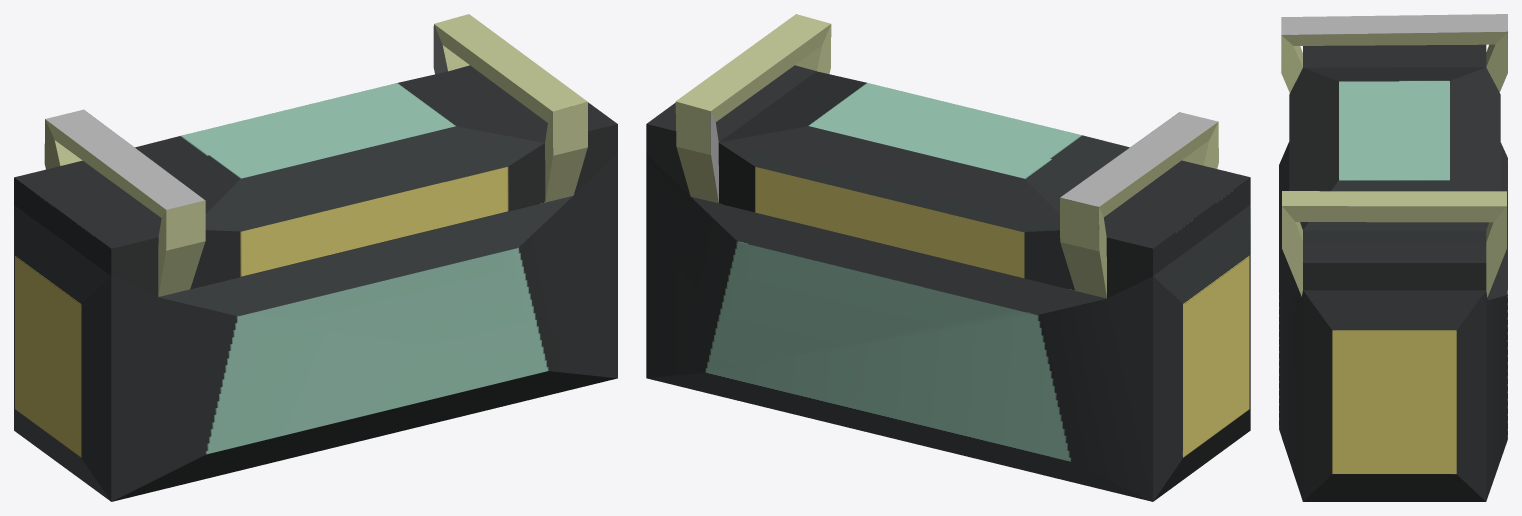
Rendered from ContainerTexturesdef.fbx.
3 renders of one model, left to right at view 1: azimuth 30°, elevation 25°; view 2: azimuth 150°, elevation 25°; view 3: azimuth 270°, elevation 25°, orthographic. The views are drawn at different scales.
Parts seen in each view (by area): view 1: pCube7; view 2: pCube7; view 3: pCube7.
Part boxes in pixels (x1,y1,x2,y2): pCube7: (14,14,617,501); pCube7: (646,14,1250,501); pCube7: (1279,14,1507,501).
Bounding box in the file's own units: 3.17 × 1.67 × 1.25.
1 material, 1 textured.
